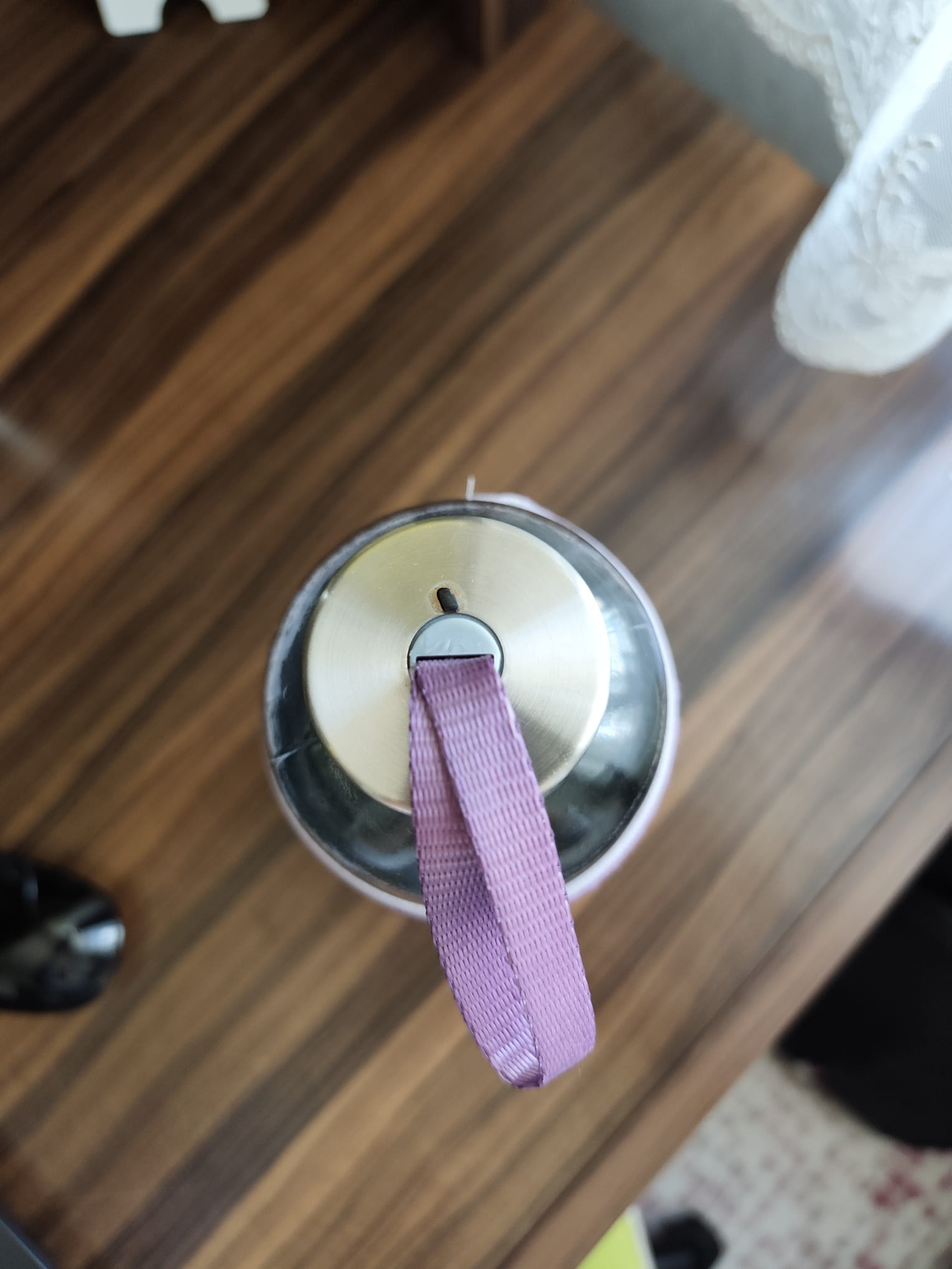su_sisesi: (249, 476, 720, 1086)
